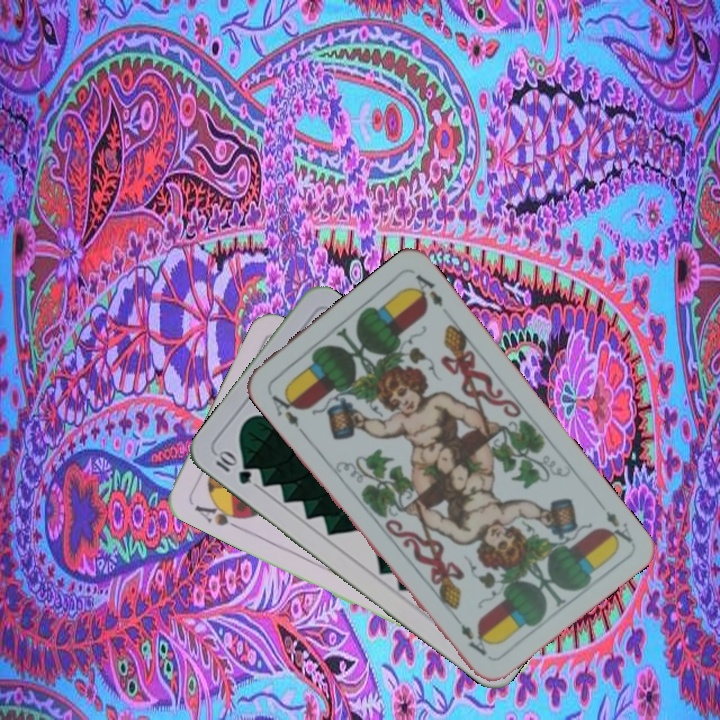EA: (593, 496, 635, 549), (267, 385, 306, 436)
G10: (210, 447, 255, 487)
SA: (190, 496, 248, 532)
